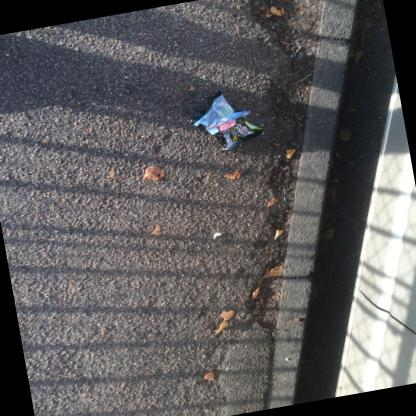Plastic: (188, 88, 263, 151)
